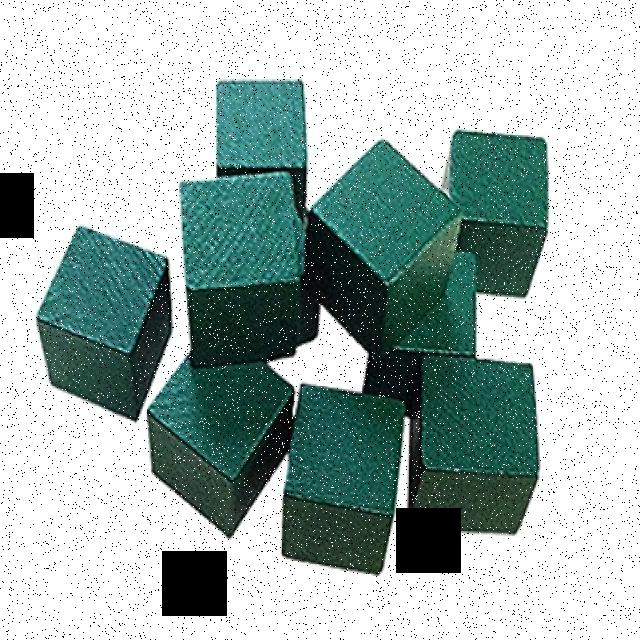green cube: (303, 138, 462, 362), (145, 349, 294, 540), (35, 224, 173, 424), (281, 384, 405, 574), (178, 172, 297, 366), (407, 359, 537, 535), (361, 253, 476, 417), (440, 129, 547, 298), (216, 80, 306, 224), (294, 205, 321, 349)
